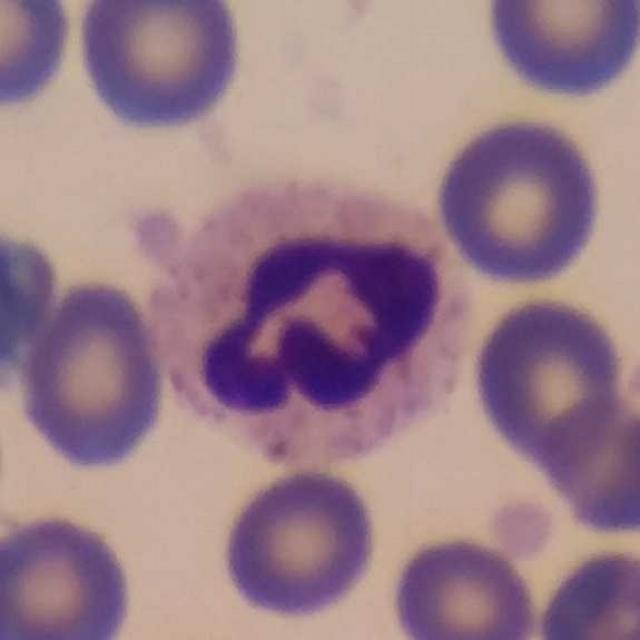Neutrophil: (144, 160, 488, 497)
RBC: (427, 109, 610, 291), (12, 275, 173, 474), (465, 291, 631, 473), (215, 463, 383, 623), (69, 0, 252, 138), (0, 507, 140, 640), (474, 0, 640, 105), (385, 531, 544, 640), (536, 387, 640, 542), (1, 216, 65, 406), (531, 541, 640, 640), (0, 0, 78, 117)
